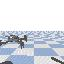drone: (0, 35, 27, 49)
